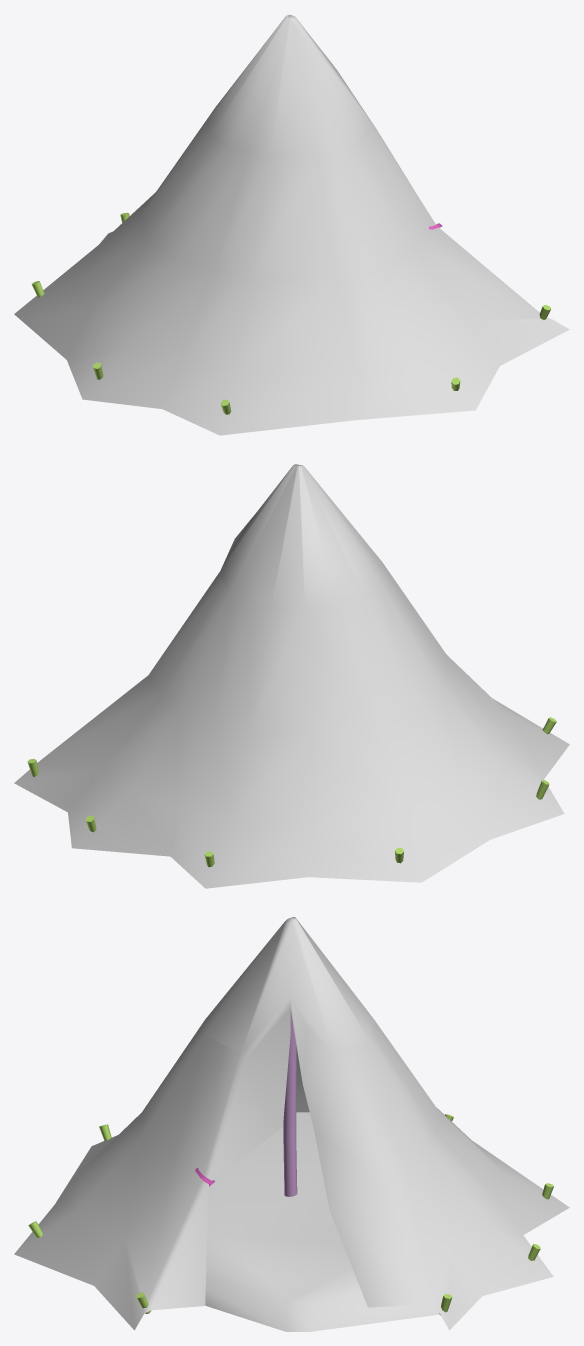
Rendered from Tent3.fbx.
3 views of the same model, one above another, from view 1: azimuth 30°, elevation 25°; view 2: azimuth 150°, elevation 25°; view 3: azimuth 270°, elevation 25° (orthographic).
Parts seen in each view (by area): view 1: Cone; view 2: Cone; view 3: Cone.
Part boxes in pixels (box(x1,y1,x2,y2)): Cone: box(14, 14, 569, 435); Cone: box(14, 464, 569, 888); Cone: box(14, 917, 569, 1331).
Size of the model in its own units: 281 by 193 by 304.
